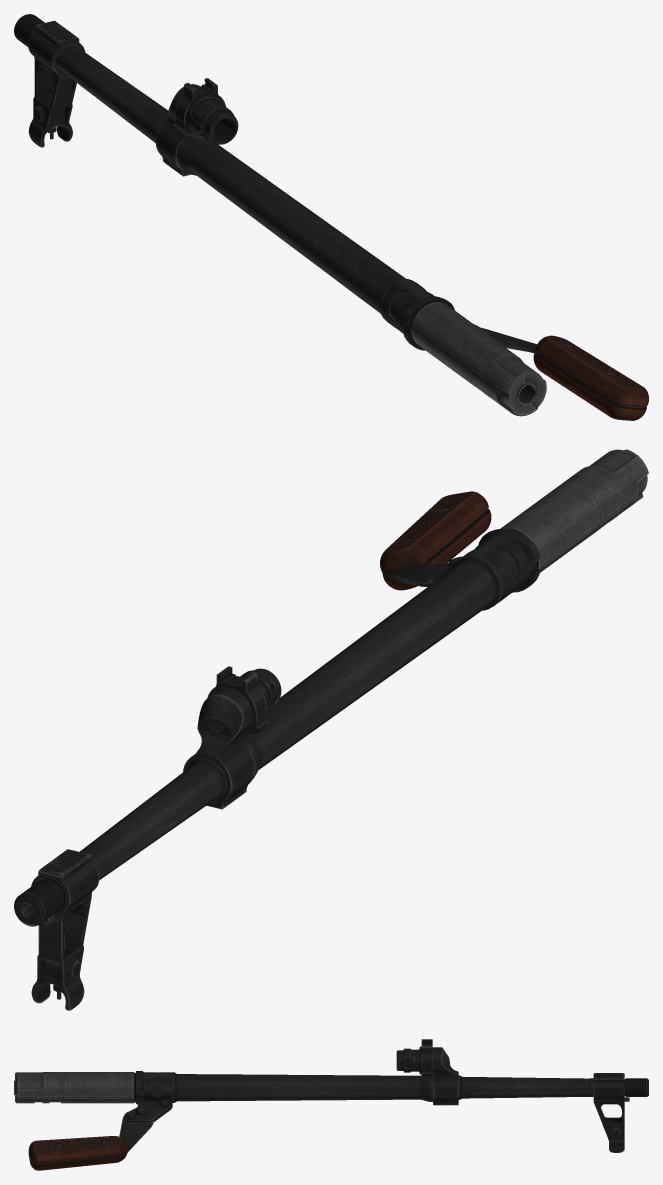
3 views of the same model, one above another, from view 1: azimuth 30°, elevation 25°; view 2: azimuth 150°, elevation 25°; view 3: azimuth 270°, elevation 25° (orthographic). The views are drawn at different scales.
Parts seen in each view (by area): view 1: TW_646371faf2404ab67905c8e9_PZ_Import; view 2: TW_646371faf2404ab67905c8e9_PZ_Import; view 3: TW_646371faf2404ab67905c8e9_PZ_Import.
Boxes of the visible parts, <box> form: TW_646371faf2404ab67905c8e9_PZ_Import: <box>14,14,648,420</box>; TW_646371faf2404ab67905c8e9_PZ_Import: <box>14,449,648,1010</box>; TW_646371faf2404ab67905c8e9_PZ_Import: <box>14,1039,648,1170</box>.
Size of the model in its own units: 0.066 by 0.3508 by 0.0647.
Materials: 1 (1 with a texture image).
